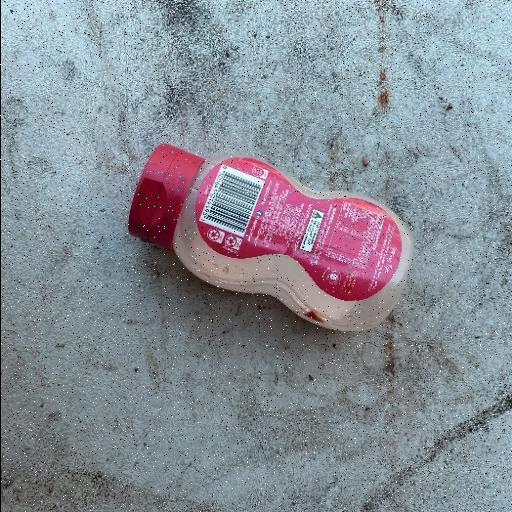Plastic: (126, 141, 415, 333)
